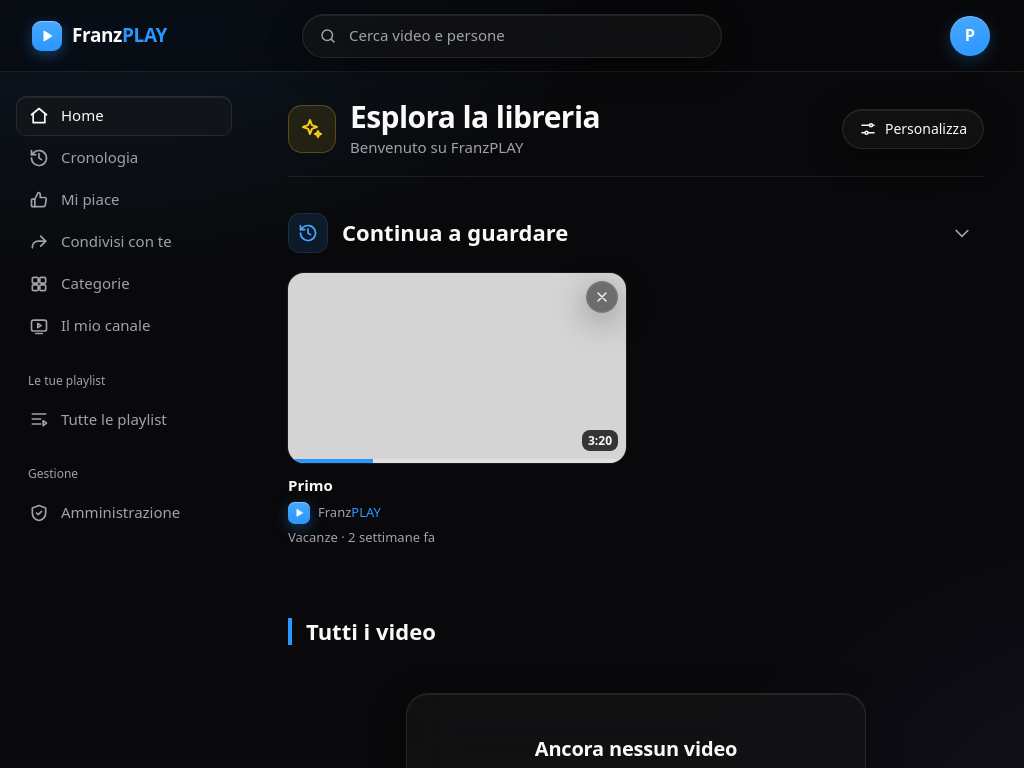
Test: continue watching › hides the row once the last video is taken out
What coordinates should you click on to do the following:
click the button named "Togli «Primo»"
I would click on:
 (602, 297)
Its box is [586,281,618,313].
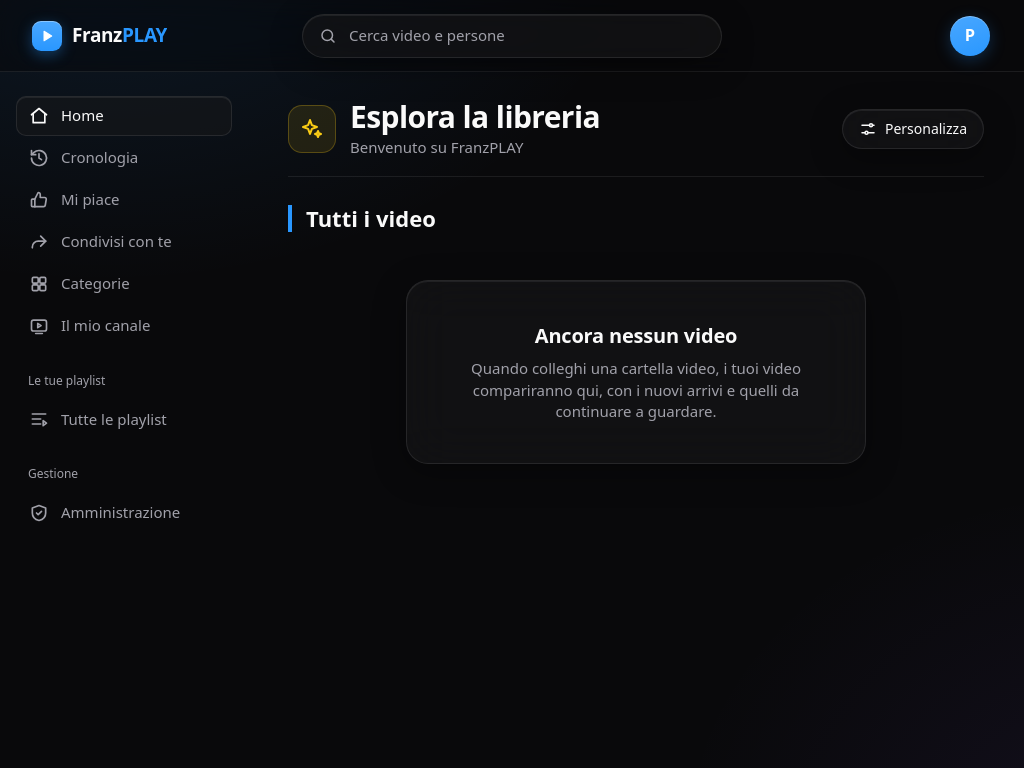
expect the button "Continua a guardare" is gone: met
